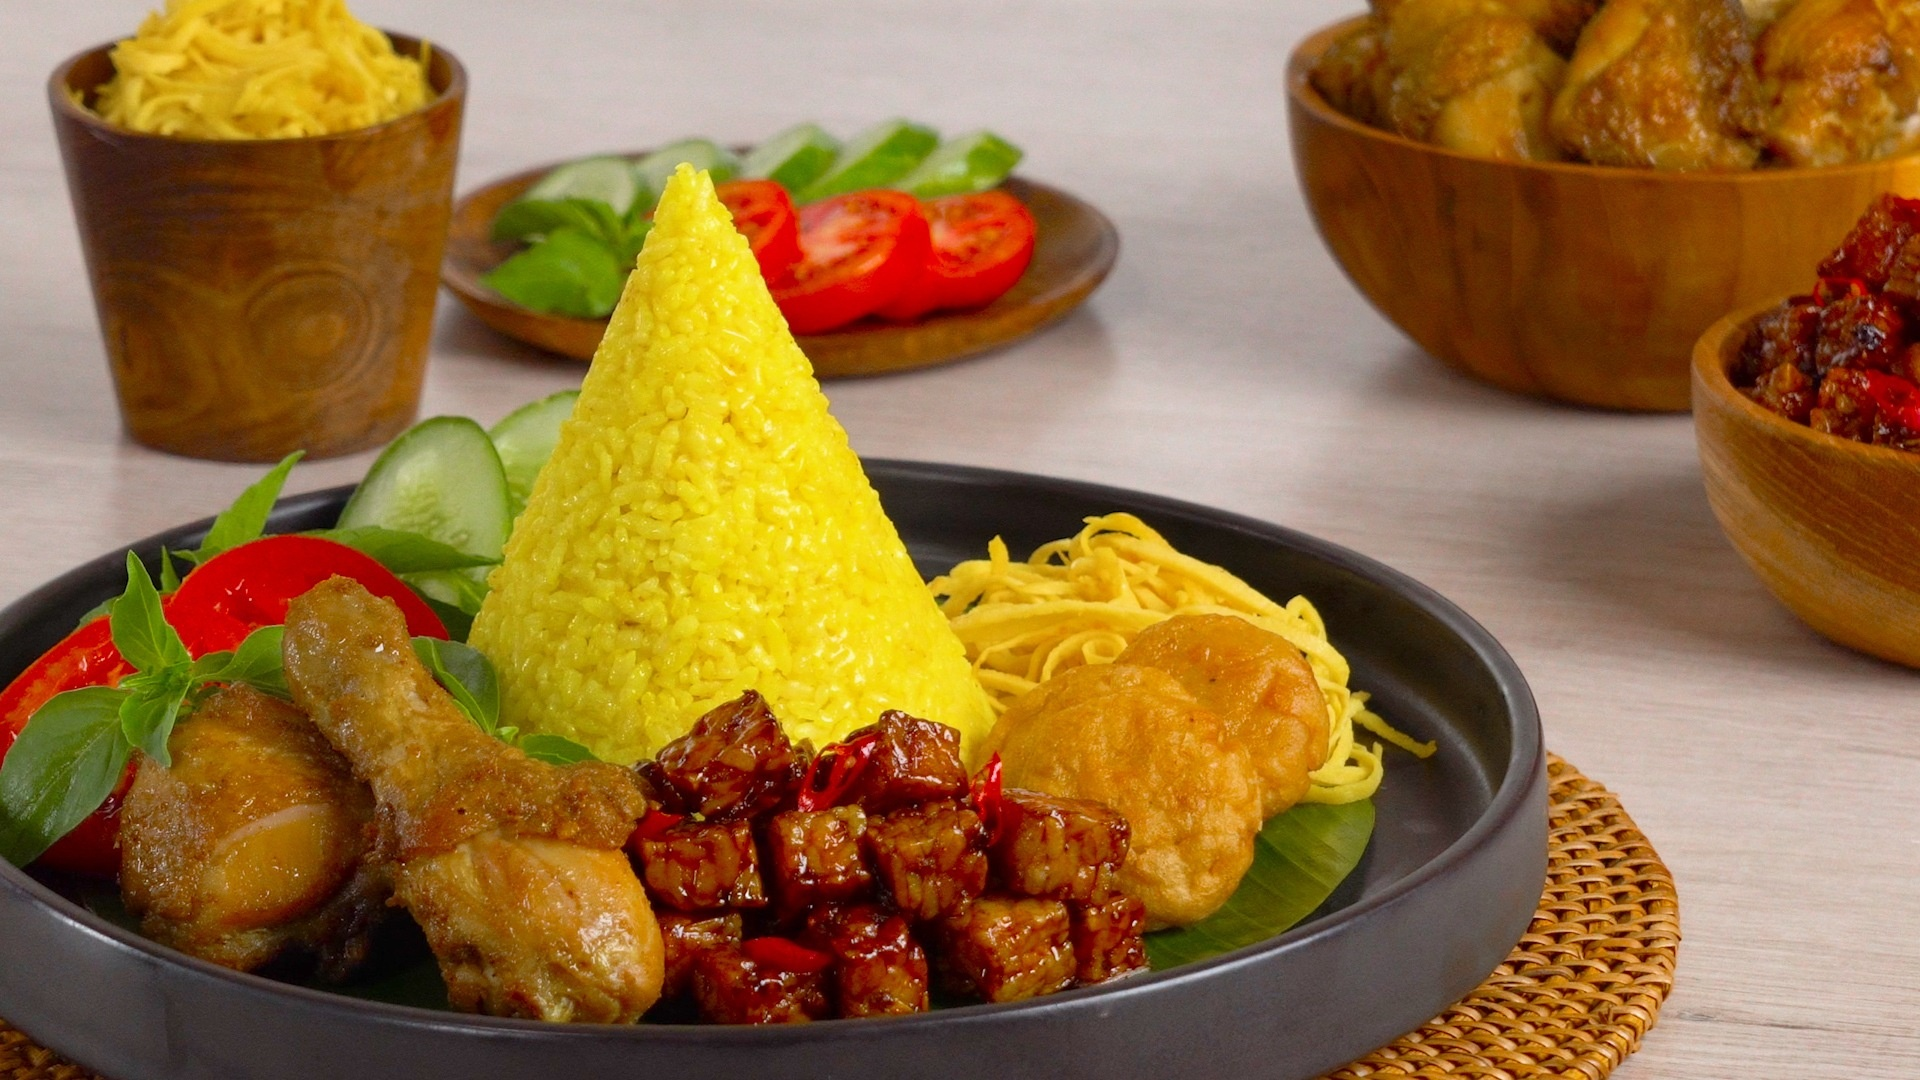tumpeng: (410, 156, 1005, 745)
